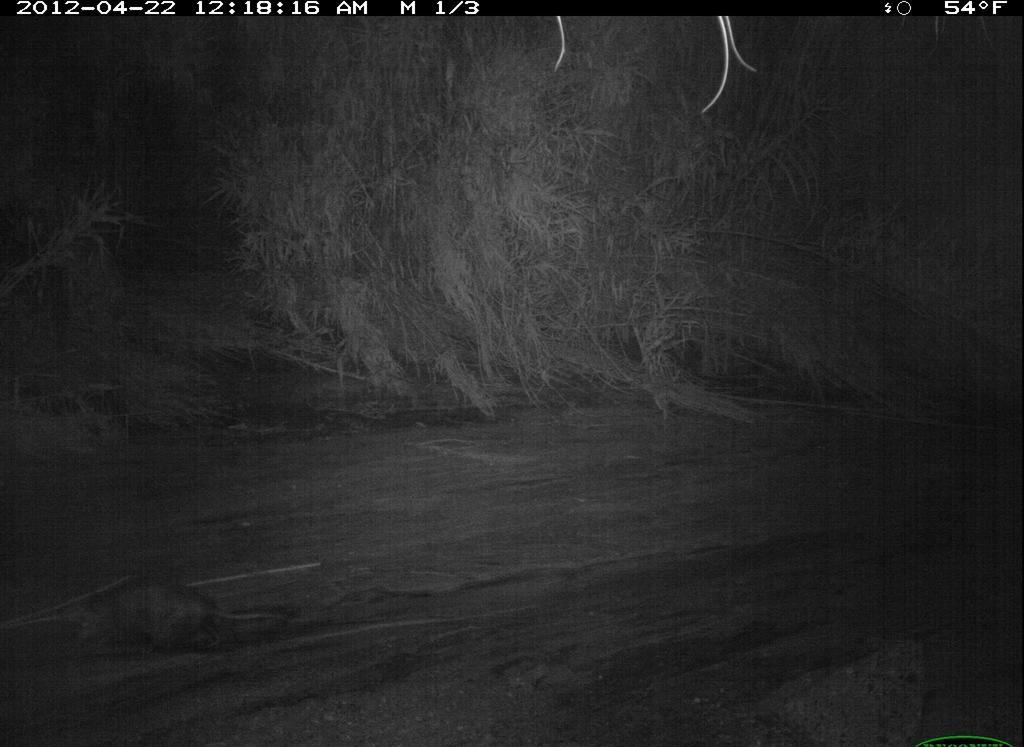opossum: (62, 565, 313, 665)
